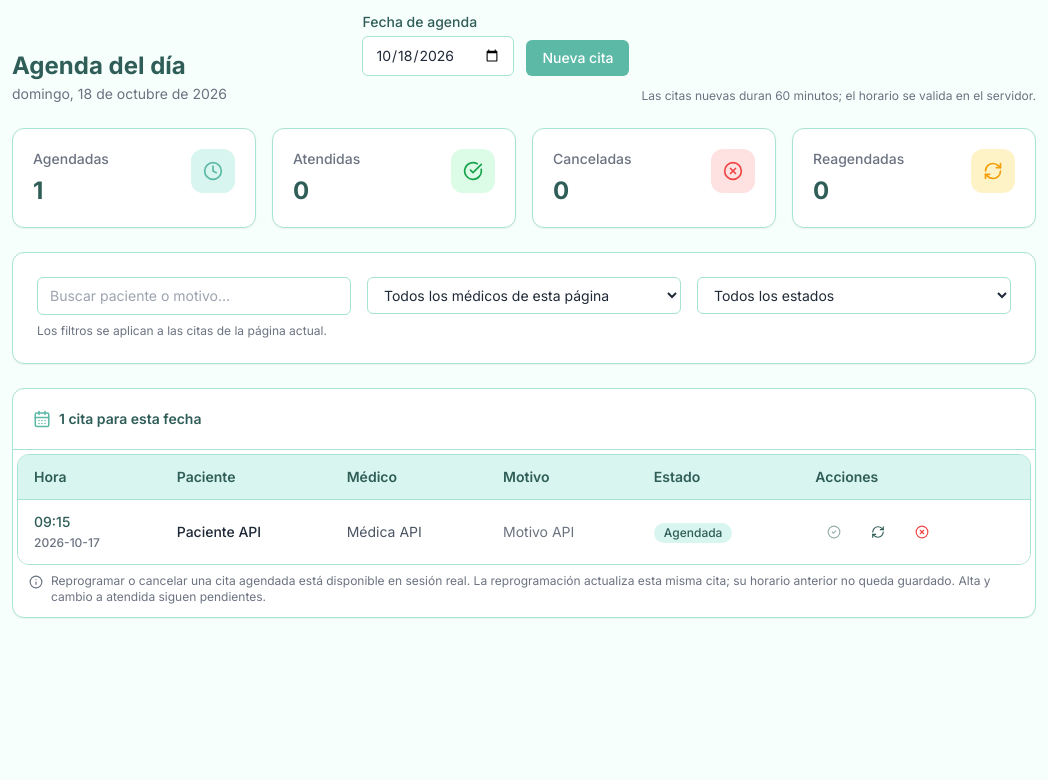
Test case: AgendaPage de recepción › muestra errores de cancelación y no presenta éxito
The image size is (1048, 780).
Click the button named "Cancelar cita: Paciente API": {"x": 922, "y": 532} [903,519,941,545]
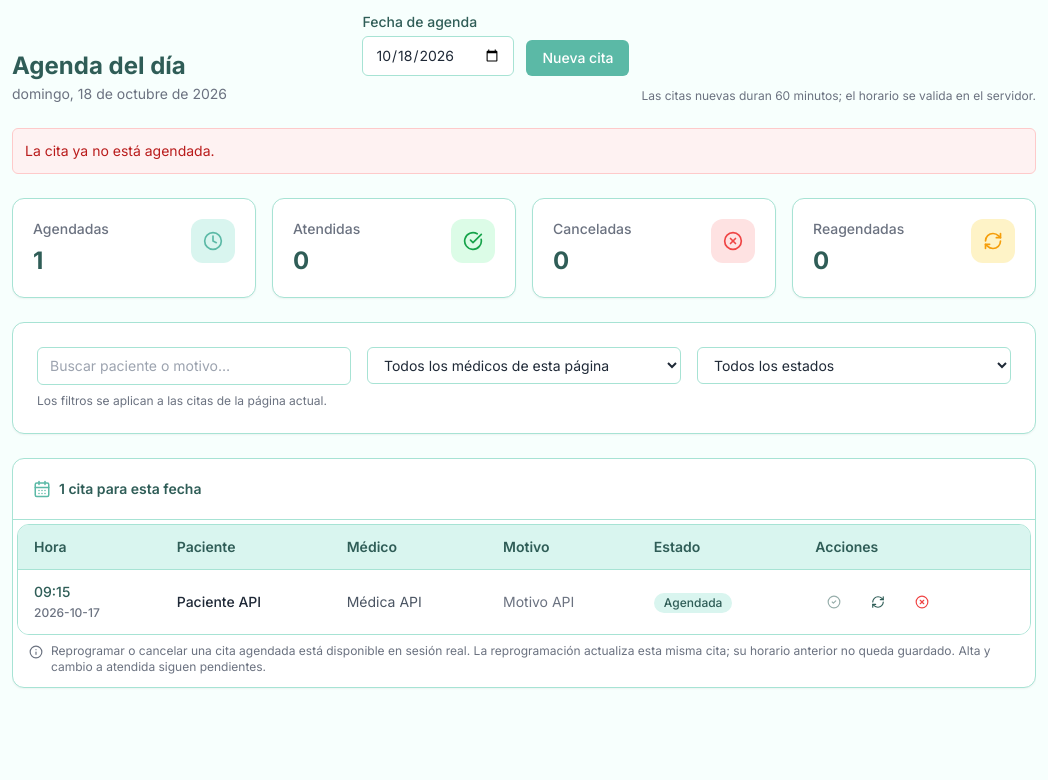
Check: the message reads "La cita ya no está agendada.", box [25,142,214,159]
